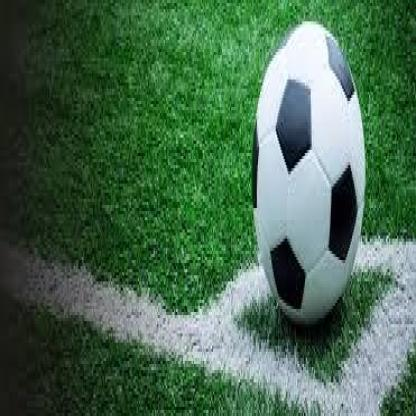ball: (252, 15, 365, 324)
